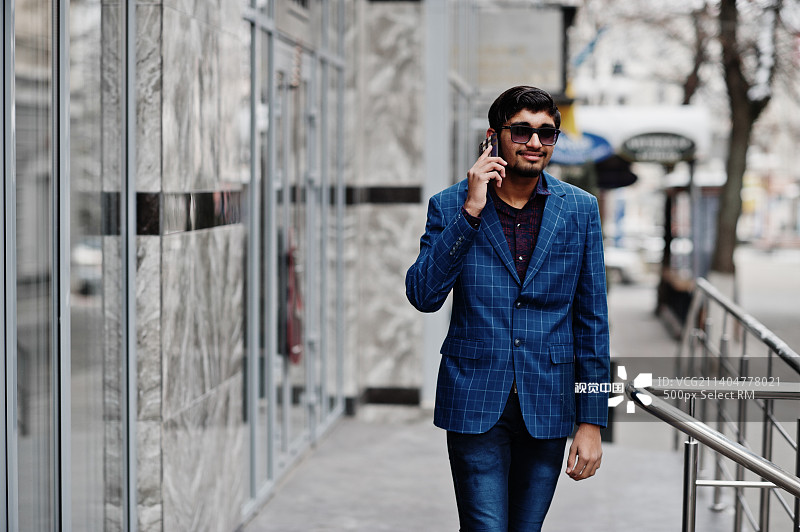calling: (460, 130, 515, 217)
no-phone: (559, 421, 625, 488)
